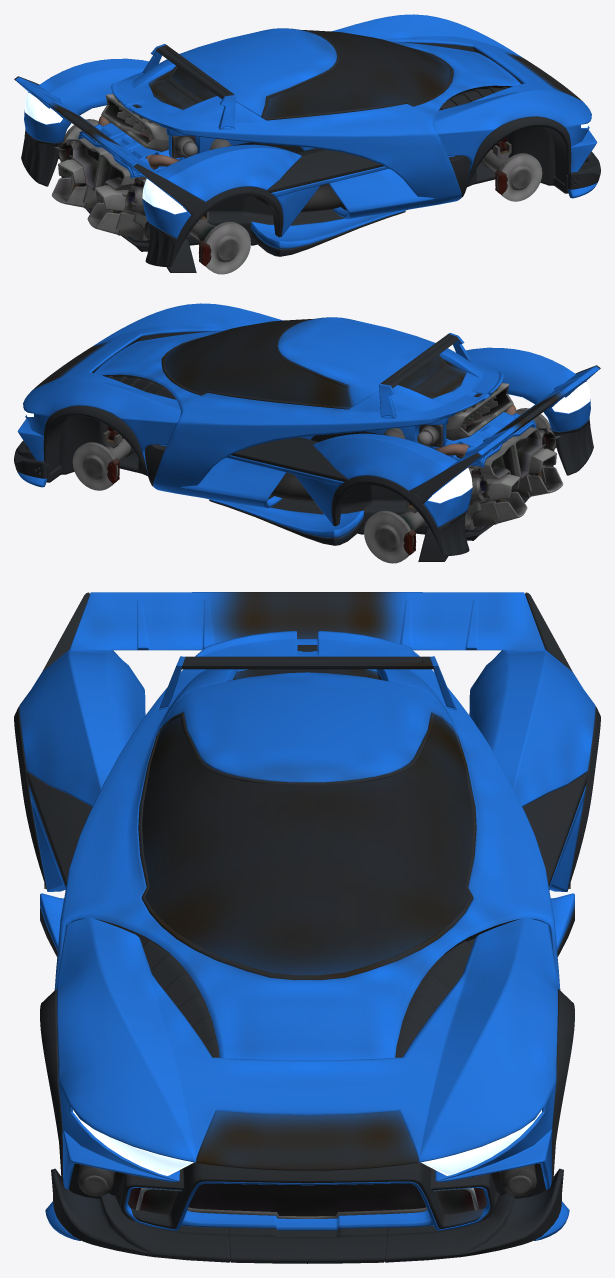
Rendered from peach_painted.glb.
3 renders of one model, top to bottom at view 1: azimuth 30°, elevation 25°; view 2: azimuth 150°, elevation 25°; view 3: azimuth 270°, elevation 25°, orthographic. The views are drawn at different scales.
Visible parts, largest first — view 1: body-shell, lower-detail, lamps; view 2: body-shell, lower-detail, lamps; view 3: body-shell, lower-detail, lamps.
Boxes of the visible parts, x1,y1,x2,y2 form: body-shell: (14,14,600,272); lower-detail: (52,92,590,274); lamps: (24,92,589,214); body-shell: (14,303,600,561); lower-detail: (24,381,562,563); lamps: (25,381,590,503); body-shell: (14,592,600,1263); lower-detail: (44,883,570,1218); lamps: (73,1110,541,1175).
Bounding box in the file's own units: 140 × 41.91 × 78.69.
Materials: 3 (2 with a texture image).
